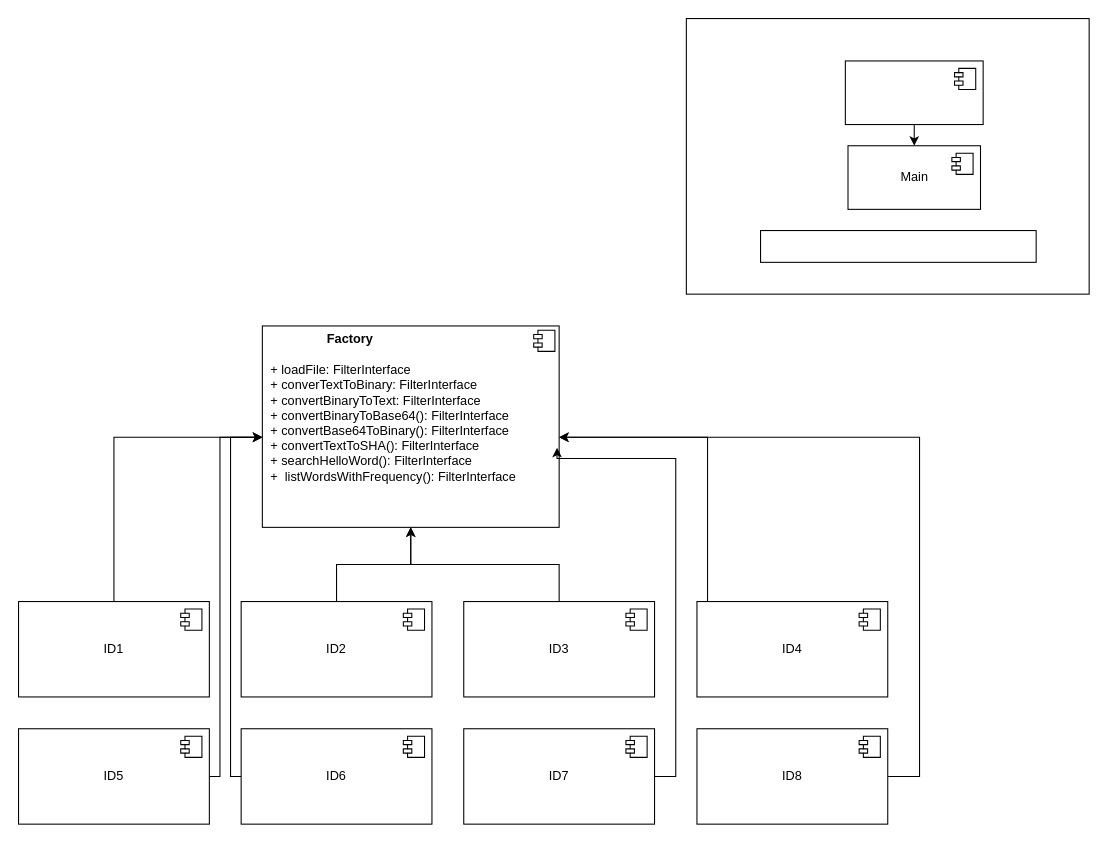
Some shapes in this 1108 by 843 pixel diagram are drawn without their labels. Each missing label, with the centre of its shape:
Factory: [913,92]
Shared: [897,245]
